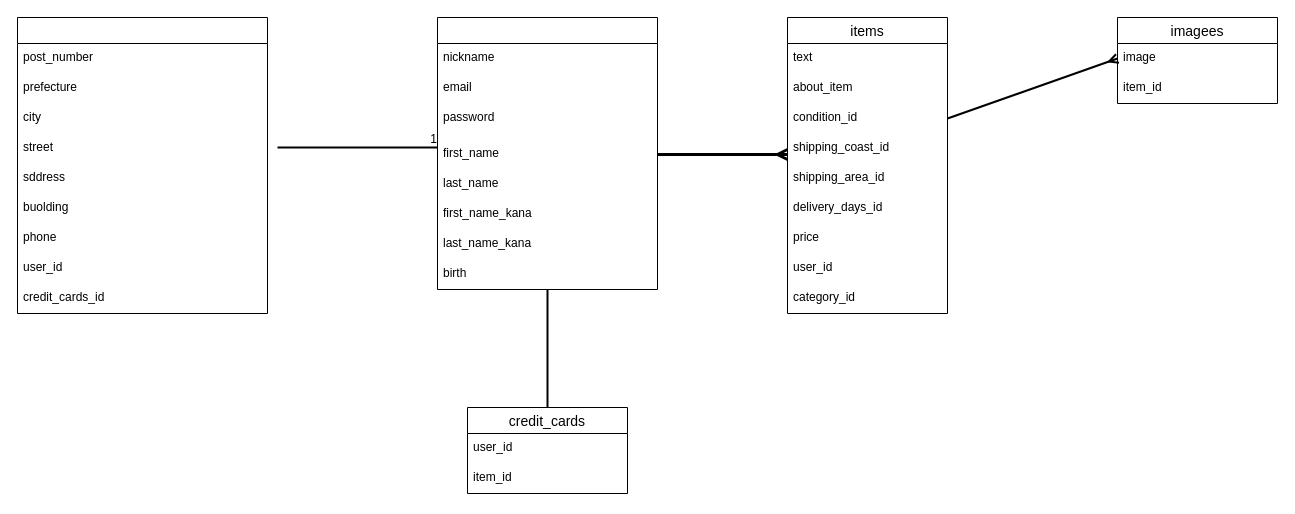
Image size: 1295x514. Some labels were removed from this diagram. Here are the shapes that lost their labels. From the top down, the box of each, then its label:
(16, 16, 268, 314): addresses
(436, 16, 658, 290): users
